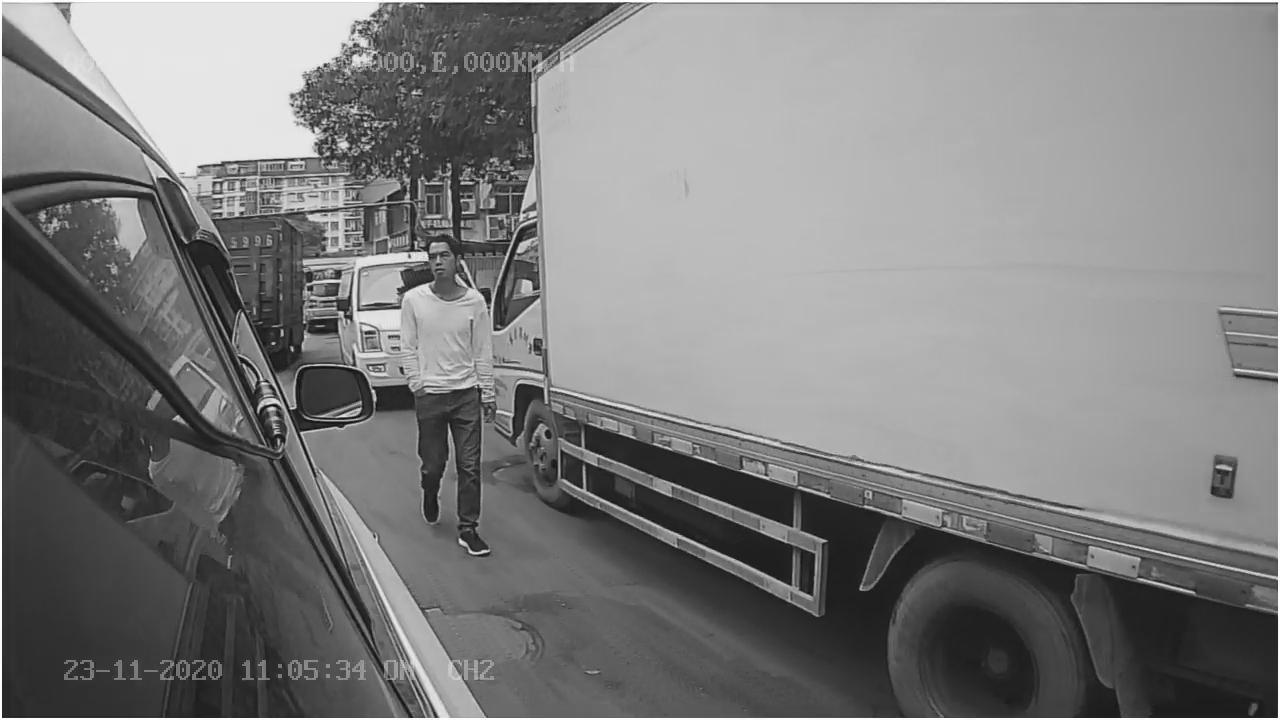person: (396, 242, 492, 564)
